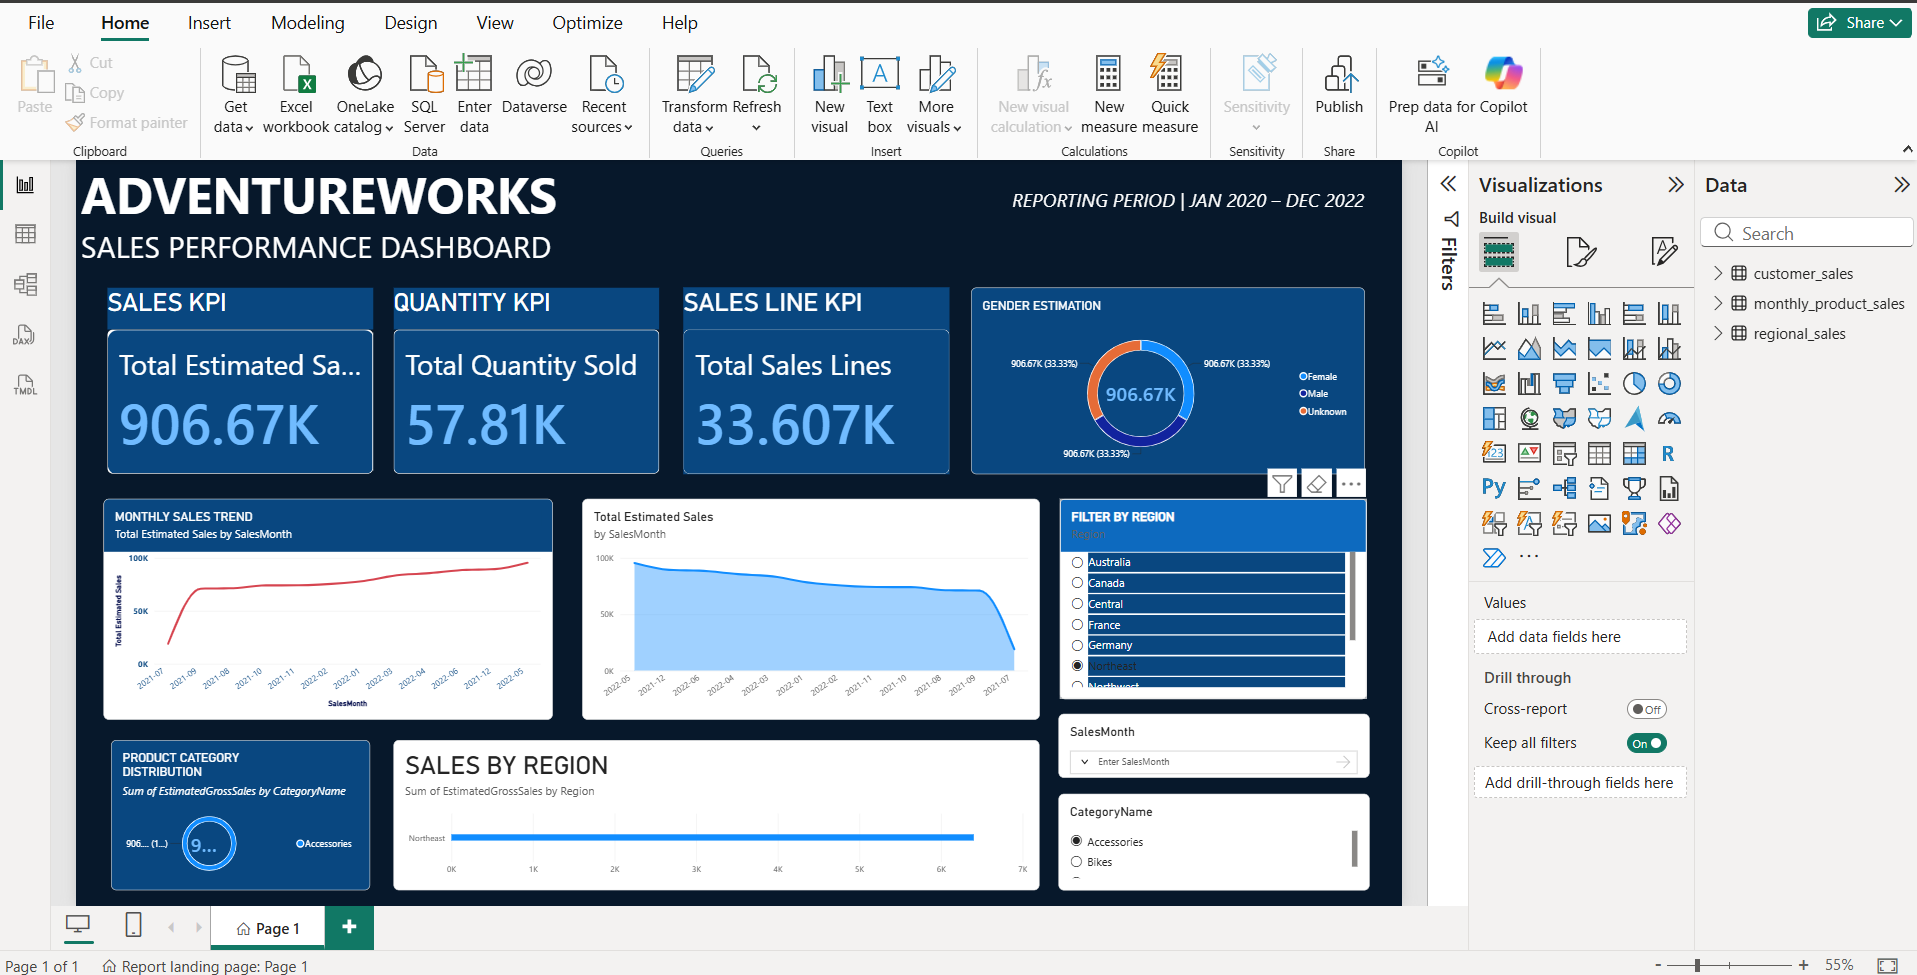

The page's visual inventory and layout, read from the dashboard file:
{"tool":"powerbi","page":{"name":"Page 1","canvas":[1920,1080],"ordinal":0},"visuals":[{"type":"textbox","box":[7.5,0,905,185],"z":0},{"type":"textbox","box":[1355,40,532.5,50],"z":1000},{"type":"cardVisual","title":"SALES KPI","fields":{"Data":["monthly_product_sales.Total Estimated Sales"]},"box":[45,185,385,270],"z":2000},{"type":"cardVisual","title":"QUANTITY KPI","fields":{"Data":["monthly_product_sales.Total Quantity Sold"]},"box":[460,185,385,270],"z":3000},{"type":"cardVisual","title":"SALES LINE KPI","fields":{"Data":["monthly_product_sales.Total Sales Lines"]},"box":[880,185,385,270],"z":4000},{"type":"lineChart","title":"MONTHLY SALES TREND","fields":{"Category":["monthly_product_sales.SalesMonth"],"Y":["monthly_product_sales.Total Estimated Sales"]},"box":[40,490,650,320],"z":4001},{"type":"donutChart","title":"PRODUCT CATEGORY DISTRIBUTION","fields":{"Category":["monthly_product_sales.CategoryName"],"Y":["Sum(monthly_product_sales.EstimatedGrossSales)"]},"box":[50,840,375,217.5],"z":4002},{"type":"clusteredBarChart","title":"SALES BY REGION","fields":{"Category":["regional_sales.Region"],"Y":["Sum(regional_sales.EstimatedGrossSales)"]},"box":[460,840,935,217.5],"z":4003},{"type":"donutChart","title":"GENDER ESTIMATION","fields":{"Category":["customer_sales.Gender"],"Y":["Sum(monthly_product_sales.EstimatedGrossSales)"]},"box":[1295,185,570,270],"z":4004},{"type":"areaChart","fields":{"Category":["monthly_product_sales.SalesMonth"],"Y":["monthly_product_sales.Total Estimated Sales"]},"box":[732.5,490,662.5,320],"z":4005},{"type":"listSlicer","title":"FILTER BY REGION","fields":{"Values":["regional_sales.Region"]},"box":[1425,490,445,290],"z":4006},{"type":"listSlicer","fields":{"Values":["monthly_product_sales.CategoryName"]},"box":[1422.5,917.5,450,140],"z":4007},{"type":"textSlicer","fields":{"Values":["monthly_product_sales.SalesMonth"]},"box":[1422.5,802.5,450,92.5],"z":4008}]}

Visuals, with their boxes on the page's 1920x1080 design canvas (x1, y1, x2, y2). These are canvas units, not pixel positions in the 1917x975 screenshot, which may show the page scaled, cropped or inside an application window:
textbox: Rect(8, 0, 912, 185)
textbox: Rect(1355, 40, 1888, 90)
"SALES KPI" cardVisual: Rect(45, 185, 430, 455)
"QUANTITY KPI" cardVisual: Rect(460, 185, 845, 455)
"SALES LINE KPI" cardVisual: Rect(880, 185, 1265, 455)
"MONTHLY SALES TREND" lineChart: Rect(40, 490, 690, 810)
"PRODUCT CATEGORY DISTRIBUTION" donutChart: Rect(50, 840, 425, 1058)
"SALES BY REGION" clusteredBarChart: Rect(460, 840, 1395, 1058)
"GENDER ESTIMATION" donutChart: Rect(1295, 185, 1865, 455)
areaChart - monthly_product_sales.SalesMonth x monthly_product_sales.Total Estimated Sales: Rect(732, 490, 1395, 810)
"FILTER BY REGION" listSlicer: Rect(1425, 490, 1870, 780)
listSlicer - monthly_product_sales.CategoryName: Rect(1422, 918, 1872, 1058)
textSlicer - monthly_product_sales.SalesMonth: Rect(1422, 802, 1872, 895)
